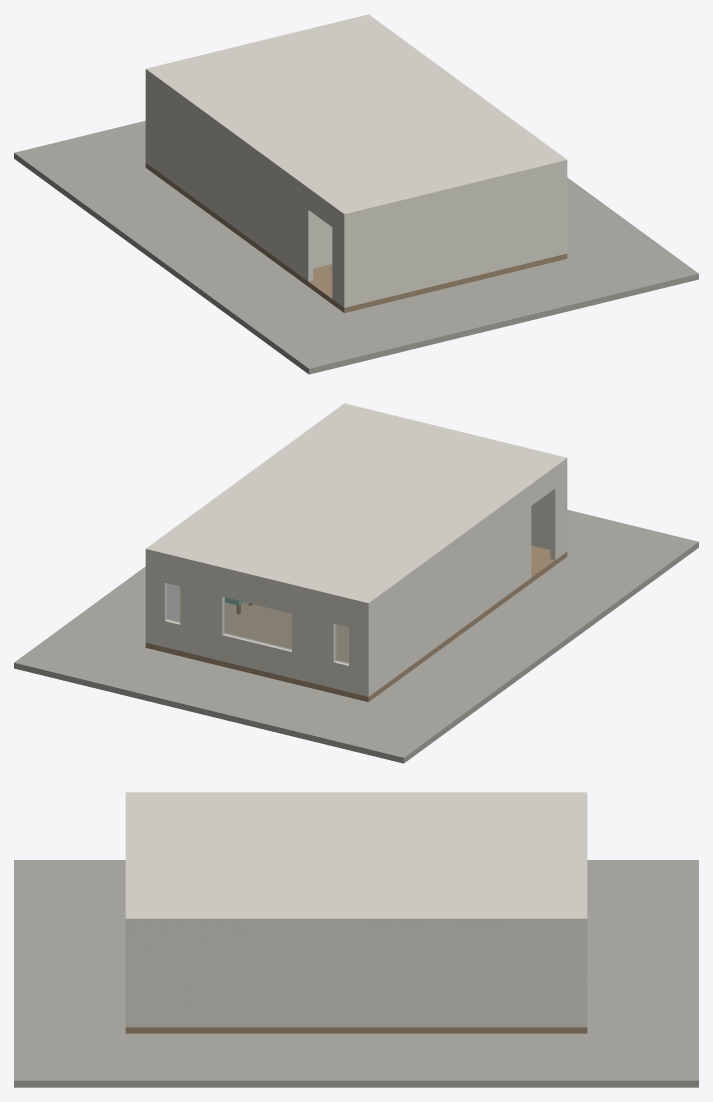
Rendered from room.glb.
The picture shows the model from 3 angles, top to bottom: view 1: azimuth 30°, elevation 25°; view 2: azimuth 150°, elevation 25°; view 3: azimuth 270°, elevation 25°; orthographic projection. The views are drawn at different scales.
Visible parts, largest first — view 1: room-e4f5b5-0000/scene/site/terrain, room-e4f5b5-0000/scene/site/building/floor-0/room-0-0/ceilin, room-e4f5b5-0000/scene/site/building/floor-0/circulation/fro, room-e4f5b5-0000/scene/site/building/floor-0/room-0-0/wall-w, room-e4f5b5-0000/scene/site/building/floor-0/circulation/cei, room-e4f5b5-0000/scene/site/building/floor-0/circulation/ent (×2), room-e4f5b5-0000/scene/site/building/floor-0/circulation/sla, room-e4f5b5-0000/scene/site/building/floor-0/room-0-0/door-w, room-e4f5b5-0000/scene/site/building/floor-0/room-0-0/slab; view 2: room-e4f5b5-0000/scene/site/terrain, room-e4f5b5-0000/scene/site/building/floor-0/room-0-0/ceilin, room-e4f5b5-0000/scene/site/building/floor-0/room-0-0/wall-w, room-e4f5b5-0000/scene/site/building/floor-0/circulation/cei, room-e4f5b5-0000/scene/site/building/floor-0/room-0-0/back-b, room-e4f5b5-0000/scene/site/building/floor-0/room-0-0/back-t, room-e4f5b5-0000/scene/site/building/floor-0/room-0-0/window (×3), room-e4f5b5-0000/scene/site/building/floor-0/room-0-0/slab, room-e4f5b5-0000/scene/site/building/floor-0/circulation/ent (×2), room-e4f5b5-0000/scene/site/building/floor-0/room-0-0/windo, room-e4f5b5-0000/scene/site/building/floor-0/circulation/fro, room-e4f5b5-0000/scene/site/building/floor-0/room-0-0/windo. (+1 smaller); view 3: room-e4f5b5-0000/scene/site/terrain, room-e4f5b5-0000/scene/site/building/floor-0/room-0-0/ceilin, room-e4f5b5-0000/scene/site/building/floor-0/room-0-0/wall-e, room-e4f5b5-0000/scene/site/building/floor-0/circulation/cei, room-e4f5b5-0000/scene/site/building/floor-0/circulation/end, room-e4f5b5-0000/scene/site/building/floor-0/room-0-0/slab, room-e4f5b5-0000/scene/site/building/floor-0/room-0-0/door-w, room-e4f5b5-0000/scene/site/building/floor-0/circulation/sla.
Boxes of the visible parts, bbox=[...] form: room-e4f5b5-0000/scene/site/terrain: bbox=[14, 120, 698, 374]; room-e4f5b5-0000/scene/site/building/floor-0/room-0-0/ceilin: bbox=[145, 14, 518, 181]; room-e4f5b5-0000/scene/site/building/floor-0/circulation/fro: bbox=[349, 164, 562, 306]; room-e4f5b5-0000/scene/site/building/floor-0/room-0-0/wall-w: bbox=[148, 74, 293, 269]; room-e4f5b5-0000/scene/site/building/floor-0/circulation/cei: bbox=[296, 124, 567, 217]; room-e4f5b5-0000/scene/site/building/floor-0/circulation/ent (×2): bbox=[296, 183, 349, 307]; room-e4f5b5-0000/scene/site/building/floor-0/circulation/sla: bbox=[296, 253, 567, 312]; room-e4f5b5-0000/scene/site/building/floor-0/room-0-0/door-w: bbox=[293, 180, 332, 272]; room-e4f5b5-0000/scene/site/building/floor-0/room-0-0/slab: bbox=[145, 163, 296, 277]; room-e4f5b5-0000/scene/site/terrain: bbox=[14, 509, 698, 763]; room-e4f5b5-0000/scene/site/building/floor-0/room-0-0/ceilin: bbox=[145, 438, 519, 606]; room-e4f5b5-0000/scene/site/building/floor-0/room-0-0/wall-w: bbox=[371, 499, 516, 694]; room-e4f5b5-0000/scene/site/building/floor-0/circulation/cei: bbox=[296, 403, 567, 495]; room-e4f5b5-0000/scene/site/building/floor-0/room-0-0/back-b: bbox=[145, 616, 371, 696]; room-e4f5b5-0000/scene/site/building/floor-0/room-0-0/back-t: bbox=[145, 552, 371, 632]; room-e4f5b5-0000/scene/site/building/floor-0/room-0-0/window (×3): bbox=[223, 597, 371, 670]; room-e4f5b5-0000/scene/site/building/floor-0/room-0-0/slab: bbox=[145, 587, 519, 701]; room-e4f5b5-0000/scene/site/building/floor-0/circulation/ent (×2): bbox=[519, 461, 567, 586]; room-e4f5b5-0000/scene/site/building/floor-0/room-0-0/windo: bbox=[180, 586, 224, 634]; room-e4f5b5-0000/scene/site/building/floor-0/circulation/fro: bbox=[531, 492, 550, 549]; room-e4f5b5-0000/scene/site/building/floor-0/room-0-0/windo.: bbox=[145, 578, 167, 620]; room-e4f5b5-0000/scene/site/terrain: bbox=[14, 860, 698, 1087]; room-e4f5b5-0000/scene/site/building/floor-0/room-0-0/ceilin: bbox=[237, 792, 587, 922]; room-e4f5b5-0000/scene/site/building/floor-0/room-0-0/wall-e: bbox=[244, 922, 580, 1027]; room-e4f5b5-0000/scene/site/building/floor-0/circulation/cei: bbox=[125, 792, 237, 922]; room-e4f5b5-0000/scene/site/building/floor-0/circulation/end: bbox=[125, 922, 237, 1027]; room-e4f5b5-0000/scene/site/building/floor-0/room-0-0/slab: bbox=[237, 1027, 587, 1033]; room-e4f5b5-0000/scene/site/building/floor-0/room-0-0/door-w: bbox=[237, 922, 244, 1027]; room-e4f5b5-0000/scene/site/building/floor-0/circulation/sla: bbox=[125, 1027, 237, 1033].
Bounding box in the file's own units: 14.02 × 3.6 × 18.38.
